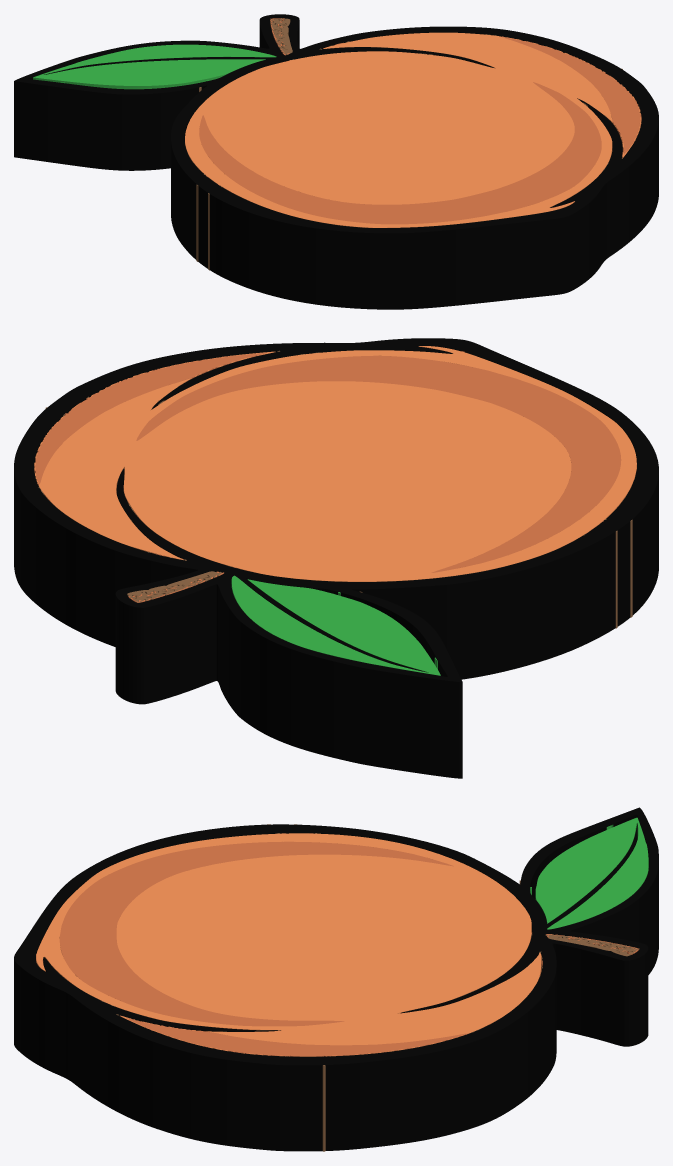
File: peach.fbx
3 views of the same model, one above another, from view 1: azimuth 30°, elevation 25°; view 2: azimuth 150°, elevation 25°; view 3: azimuth 270°, elevation 25° (orthographic). The views are drawn at different scales.
Parts seen in each view (by area): view 1: path28, path38, path36, path32, path34; view 2: path28, path38, path36, path32, path34; view 3: path28, path38, path36, path32, path34.
Part boxes in pixels (x1,y1,x2,y2): path28: [14, 14, 658, 309]; path38: [185, 32, 641, 227]; path36: [199, 18, 641, 224]; path32: [33, 44, 276, 89]; path34: [196, 18, 622, 270]; path28: [14, 338, 658, 778]; path38: [34, 346, 636, 581]; path36: [34, 350, 621, 602]; path32: [231, 575, 440, 675]; path34: [38, 350, 632, 628]; path28: [14, 807, 658, 1151]; path38: [36, 833, 541, 1056]; path36: [36, 833, 638, 1056]; path32: [530, 817, 648, 929]; path34: [102, 824, 639, 1151].
Bounding box in the file's own units: 12.88 × 2 × 13.6.
